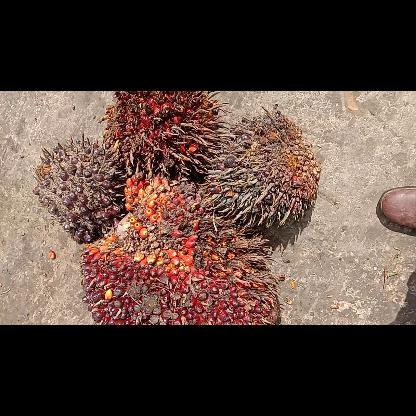Kurang masak: (32, 134, 124, 242)
TBS abnormal: (202, 109, 318, 223)
TBS masak: (80, 176, 280, 324)
Terlalu masak: (99, 90, 221, 178)
